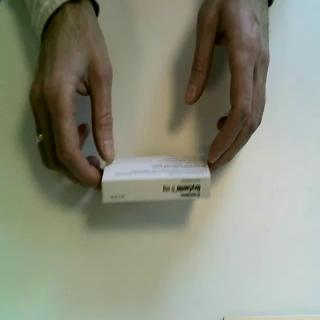oxycontin5mg: (100, 155, 212, 205)
